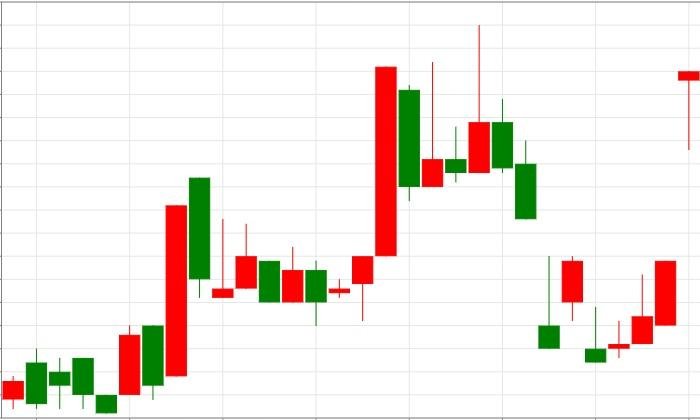inverse_hammer_rise: (492, 98, 560, 349)
